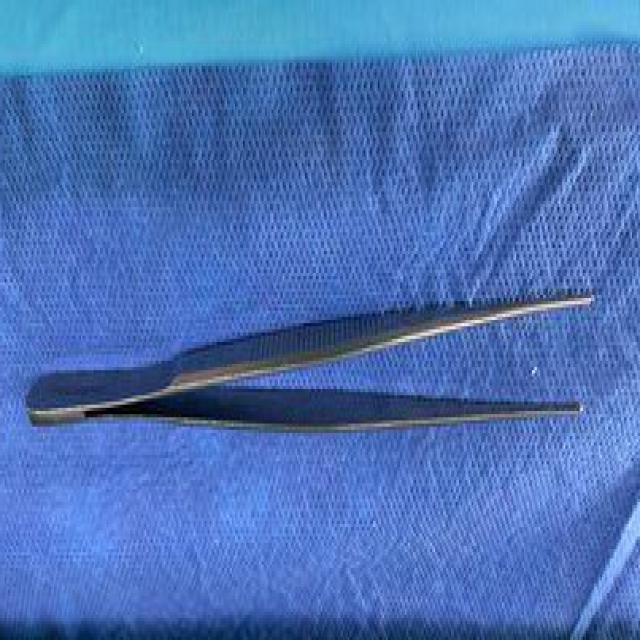Forceps: (14, 273, 600, 452)
